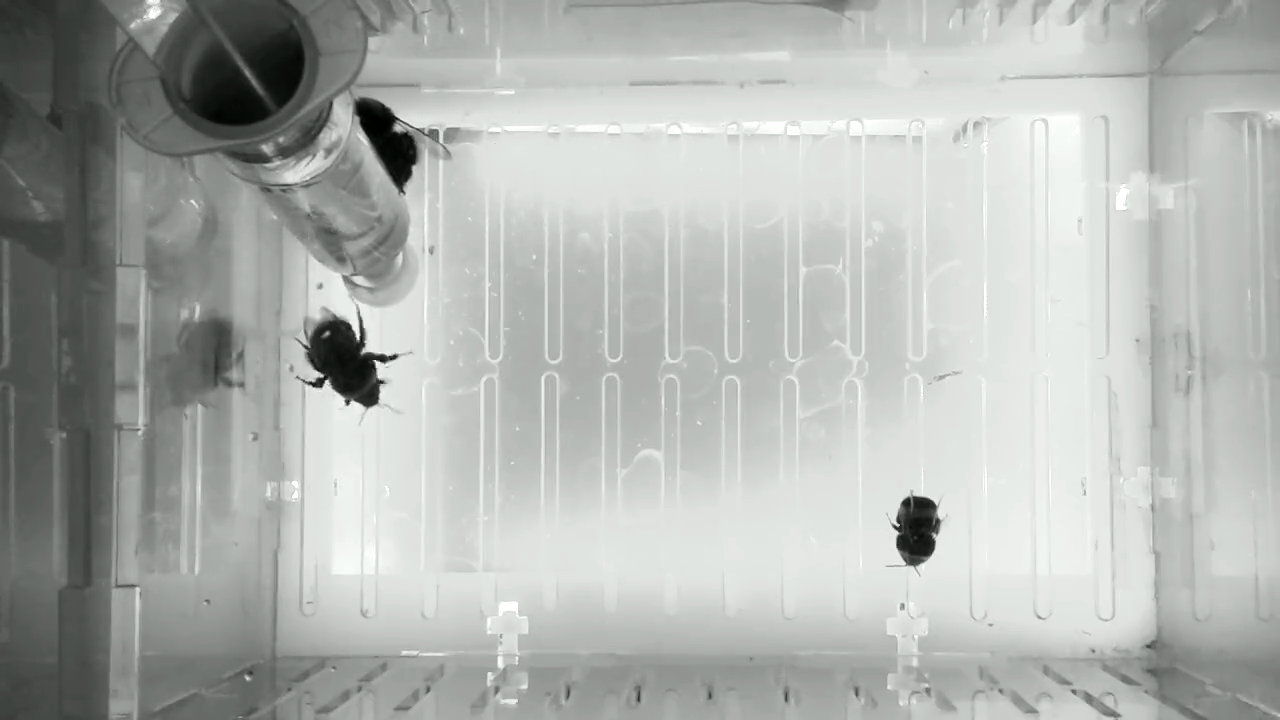bee_alive: (287, 293, 418, 433), (348, 91, 456, 203)
bee_dead: (879, 485, 953, 580)
feeder: (248, 101, 415, 282)
